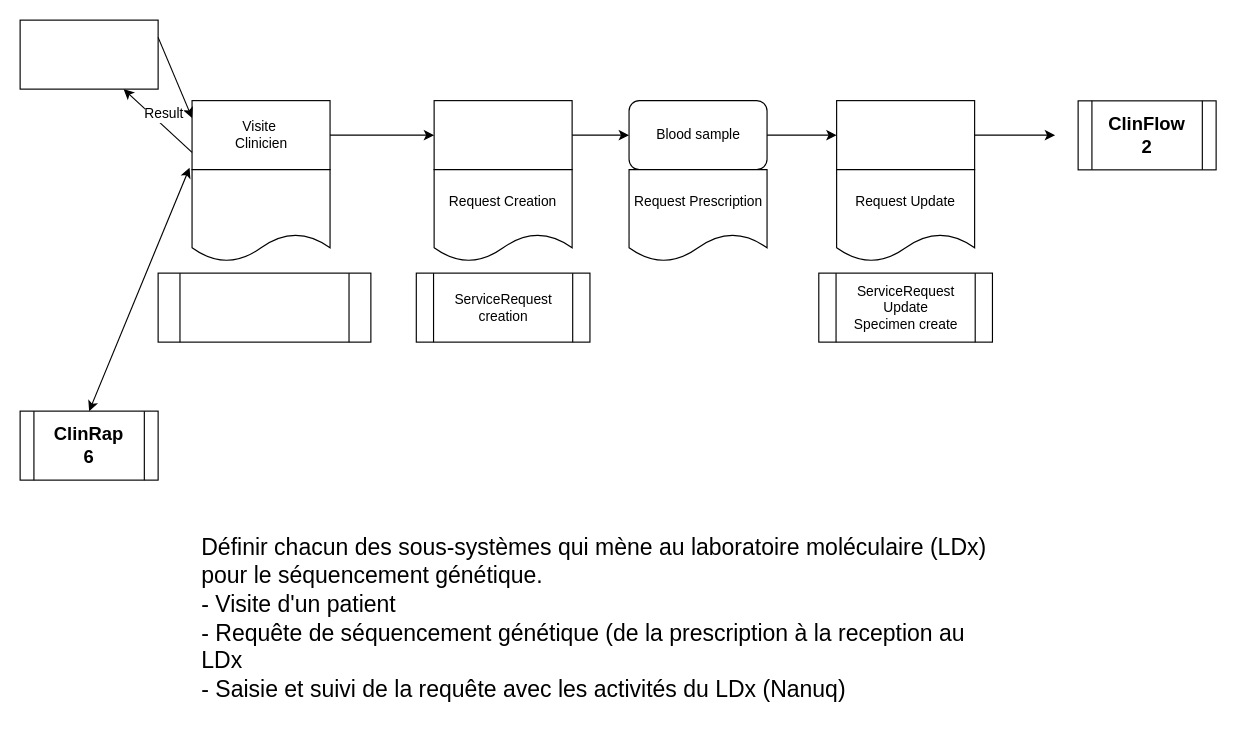
Image size: 1236x753. Some labels were removed from this diagram. Each missing label, with the centre of its shape:
"BS Reception & prep" belongs at [905,134].
"Creation patient(s)/Famille Clinical Impression Observation" belongs at [264,307].
"Famille/Individu" belongs at [88,54].
"Patient(s) Clinical Impression etc..." belongs at [260,215].
"Request" belongs at [502,134].
